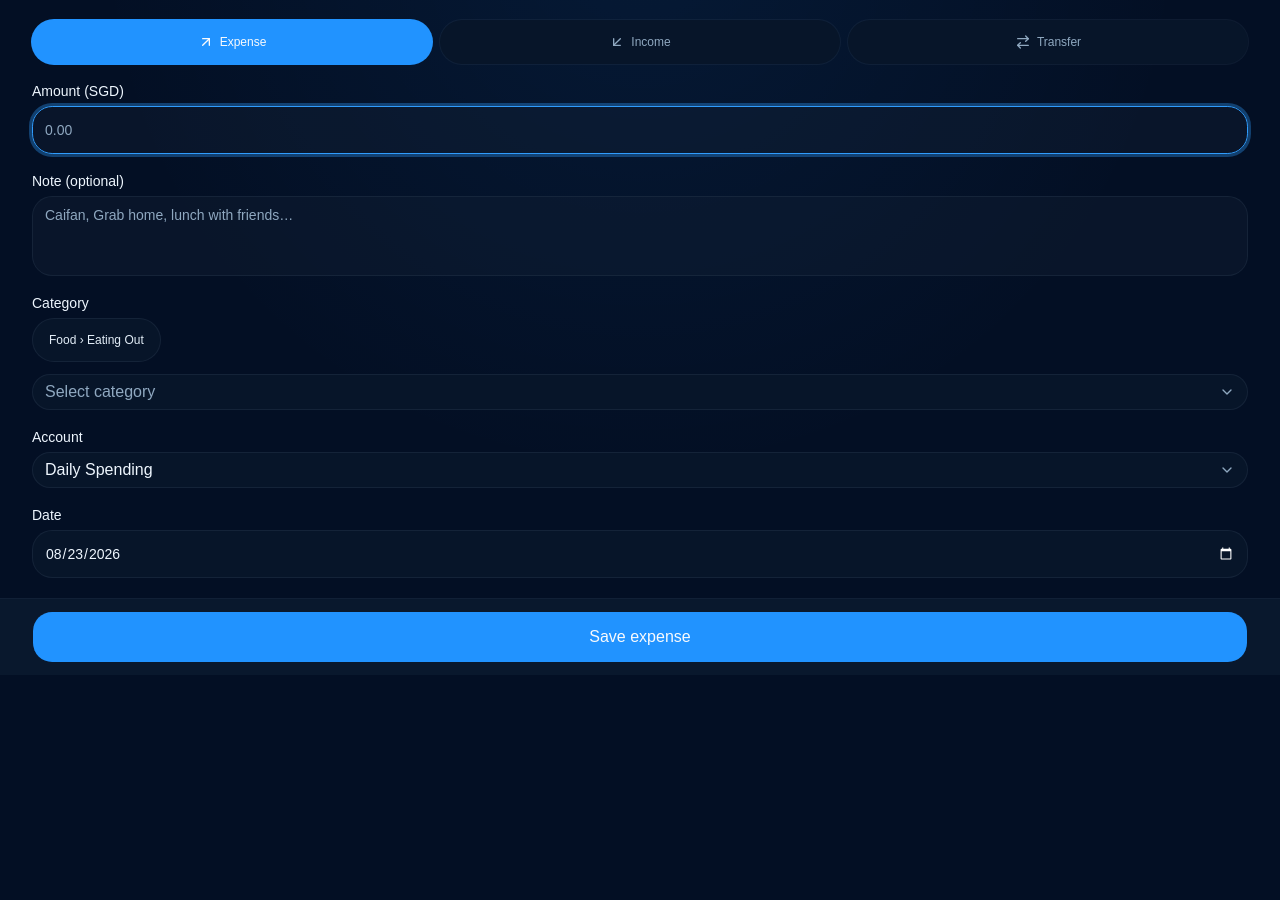
Test: Add Transaction form › fills the Note but preserves the current category when the suggested category is archived
The image size is (1280, 900).
Click the button "Food › Eating Out".
click(96, 340)  # box [32,318,161,362]
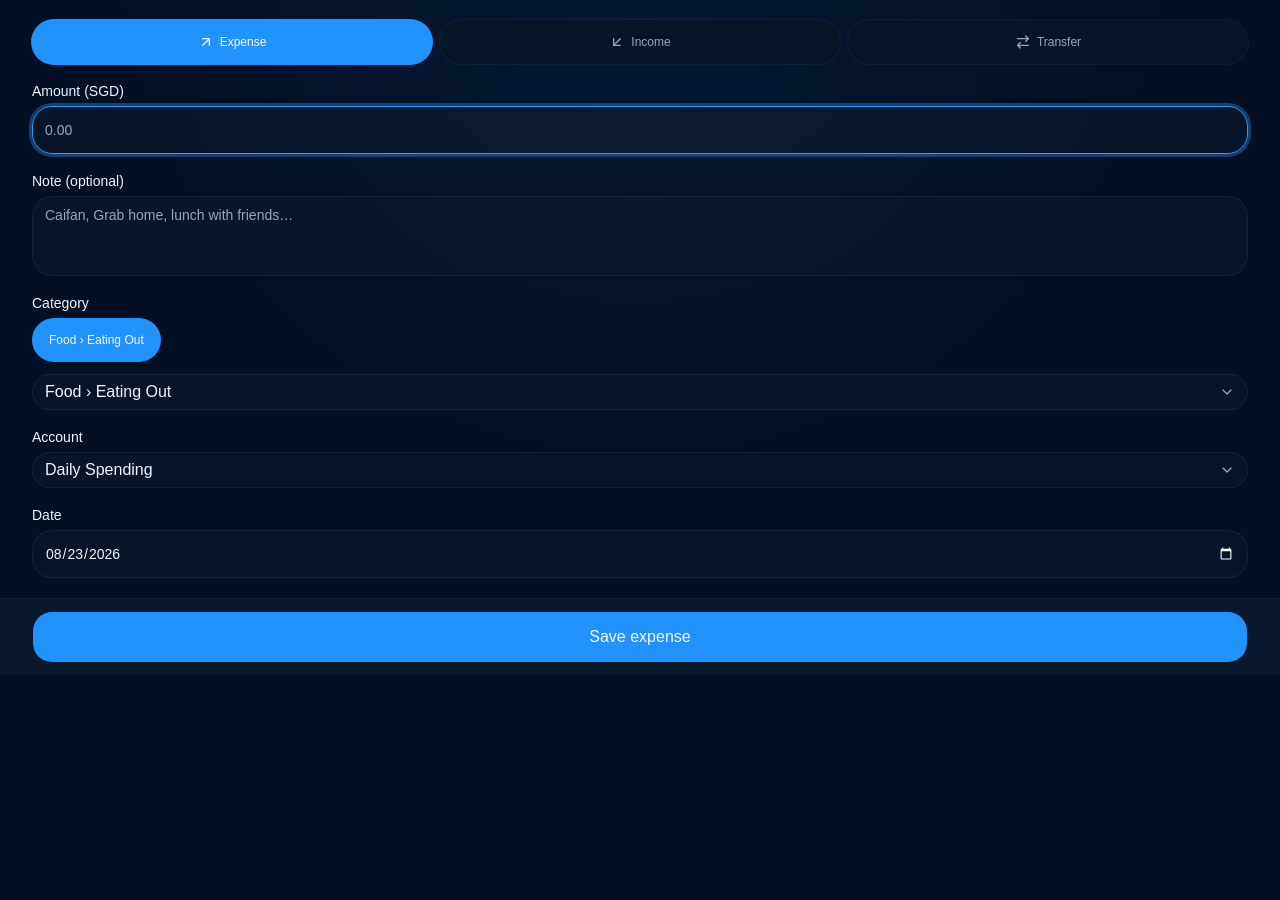
Type "ol" into the text box named "Note".
click(640, 236); type("ol")  # box [32,196,1248,276]
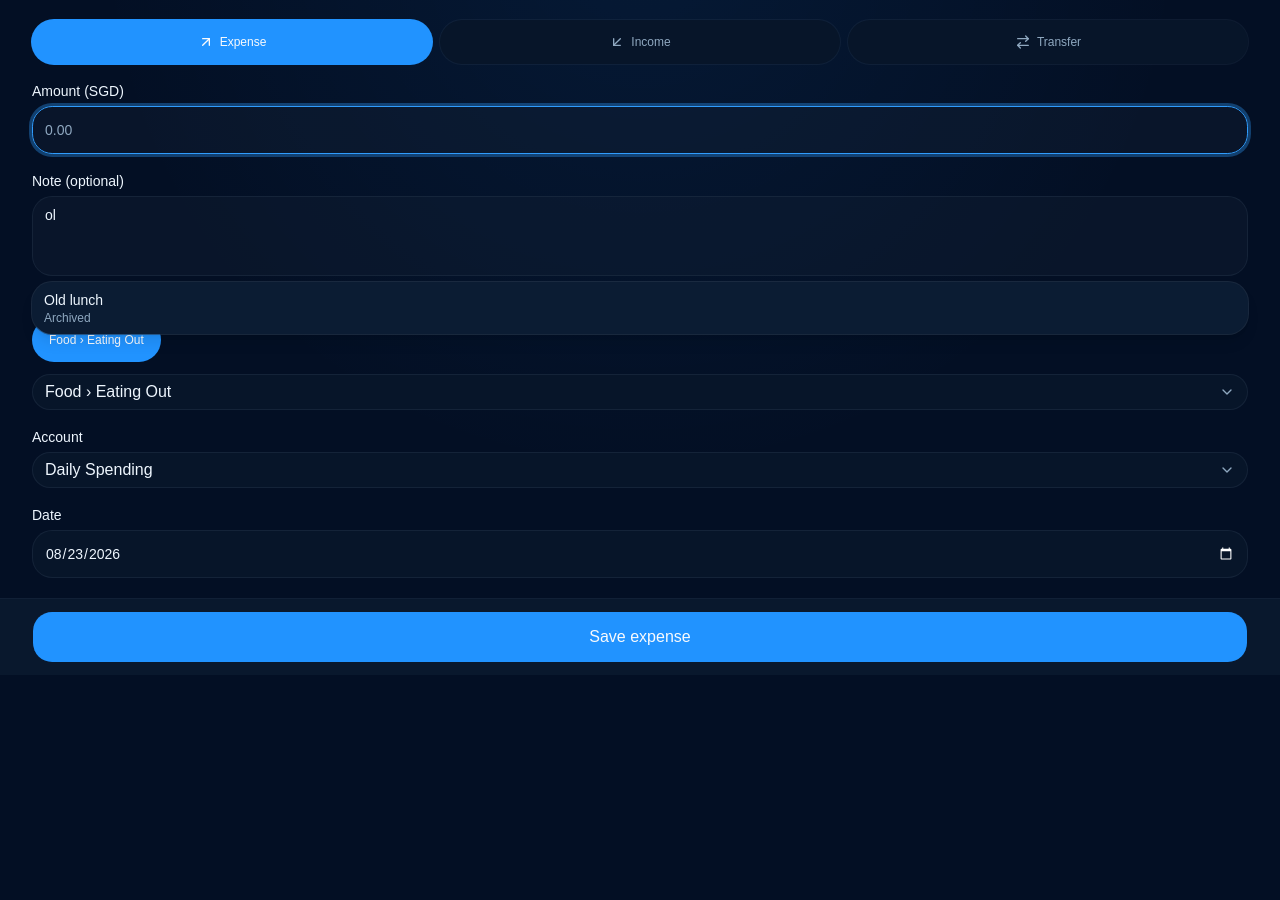
Click the option "Old lunch Archived".
click(74, 300)  # box [32,282,1248,334]
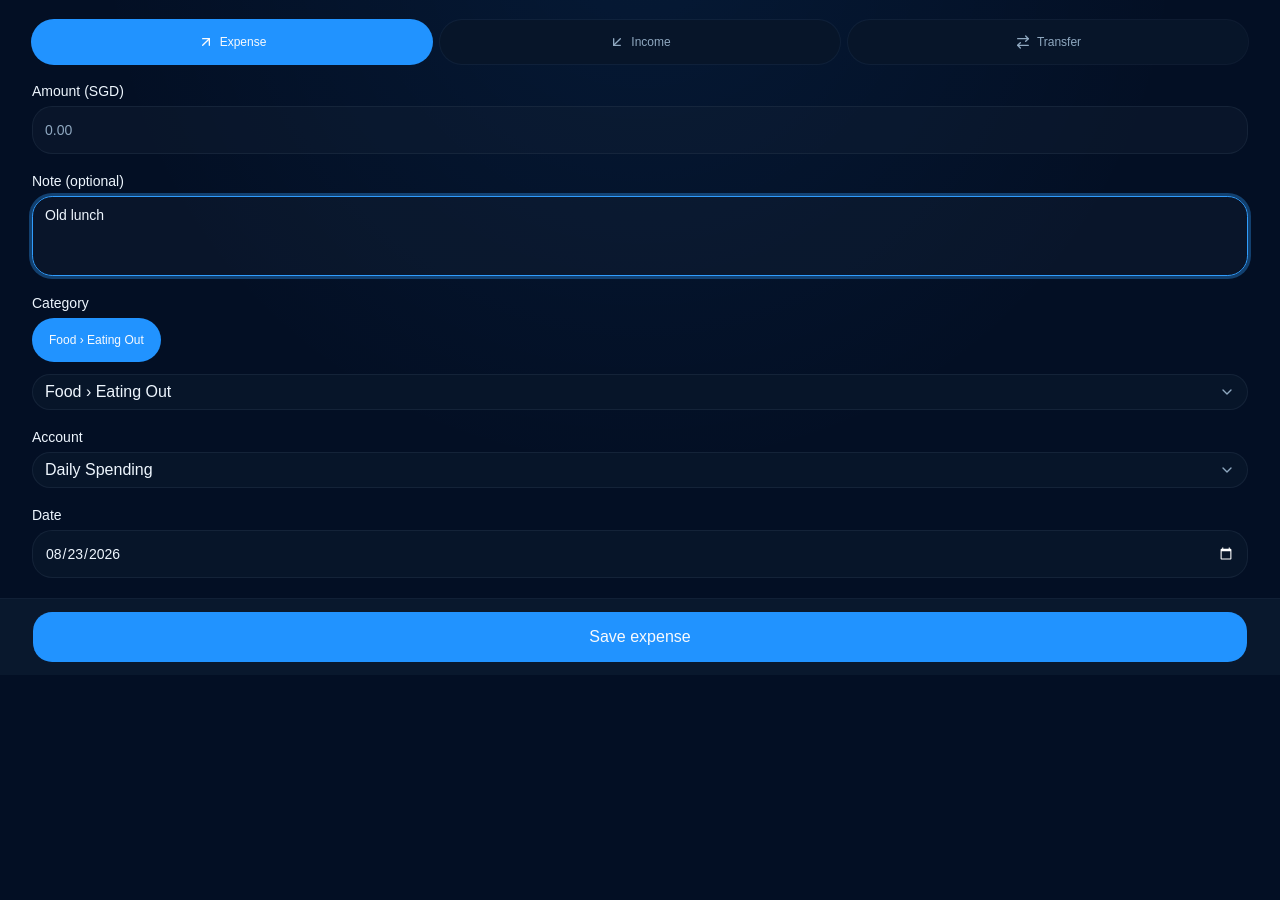
Expected: the text box named "Note" holds "Old lunch", [32,196,1248,276]
